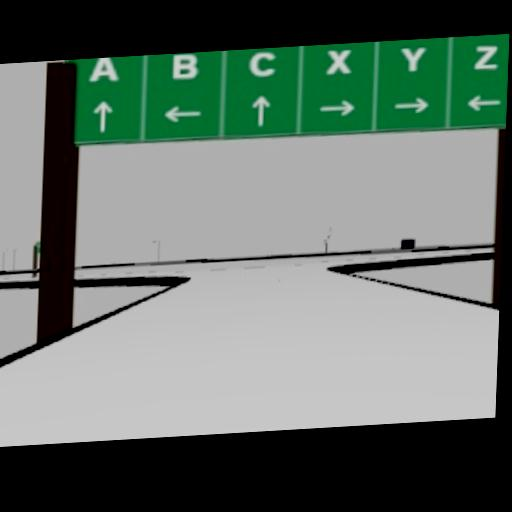A: (89, 56, 118, 81)
B: (172, 52, 199, 80)
C: (248, 49, 277, 77)
Left: (163, 103, 202, 123), (464, 92, 502, 112)
Right: (318, 99, 356, 117), (392, 96, 428, 114)
Straight: (92, 99, 113, 132), (251, 96, 270, 127)
X: (326, 48, 352, 75)
Y: (399, 45, 426, 72)
Z: (473, 43, 499, 69)
